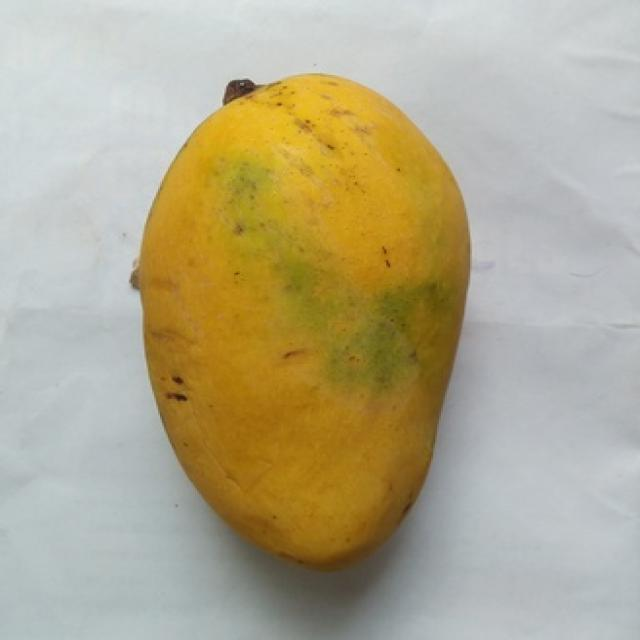Mango: (131, 75, 468, 563)
